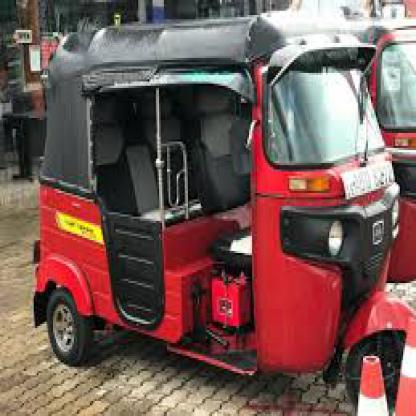tuk: (32, 11, 413, 414)
